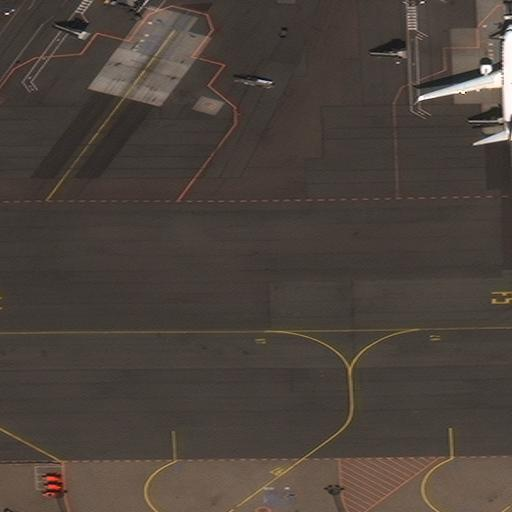Medium Civil Transport: (417, 22, 512, 143)
